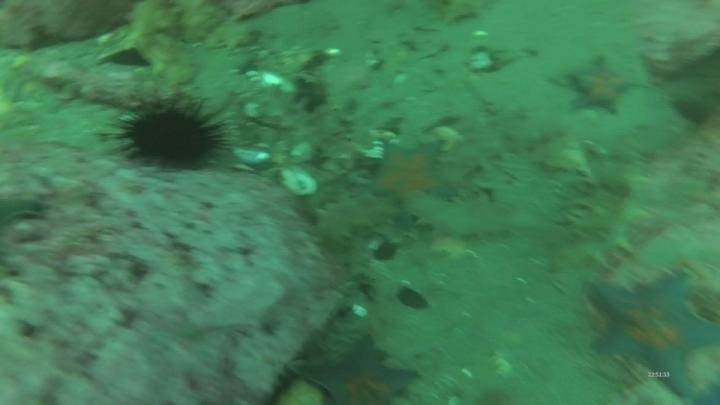echinus: (113, 95, 228, 172)
holothurian: (546, 159, 649, 274), (439, 114, 589, 181), (405, 193, 520, 245), (309, 193, 406, 252)
starfish: (582, 268, 719, 402), (296, 332, 421, 404), (366, 137, 459, 211), (562, 54, 640, 119)
